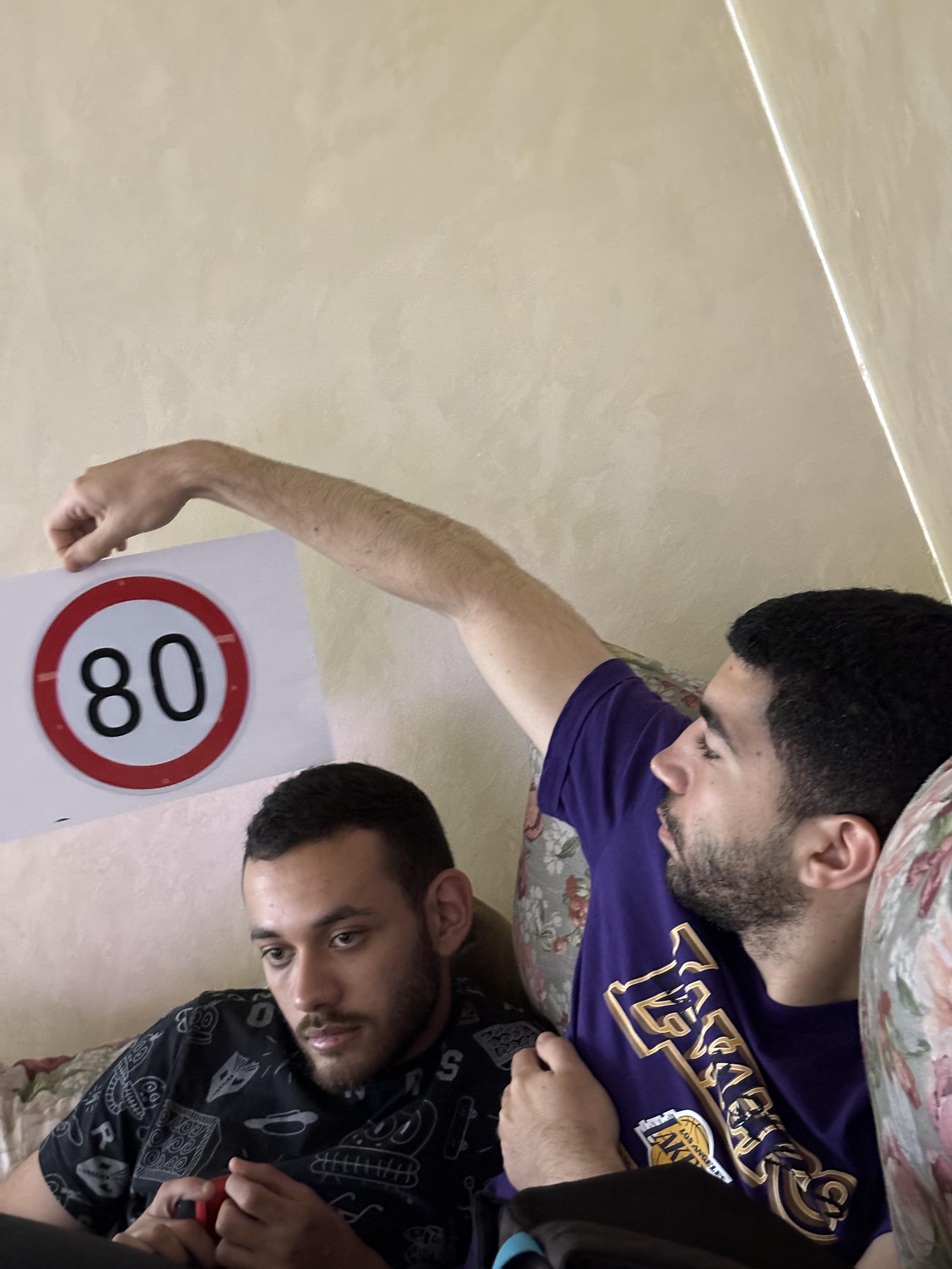80-Speed: (32, 570, 253, 792)
